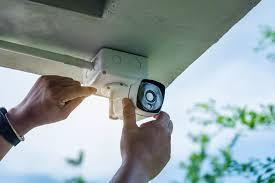Monitor: (72, 42, 190, 144)
